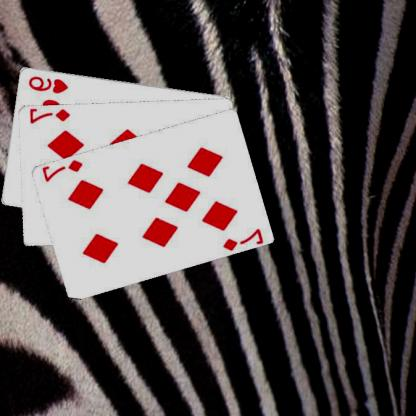7D: (41, 156, 86, 182), (221, 225, 266, 251), (28, 106, 73, 125)
9H: (27, 73, 71, 94)
